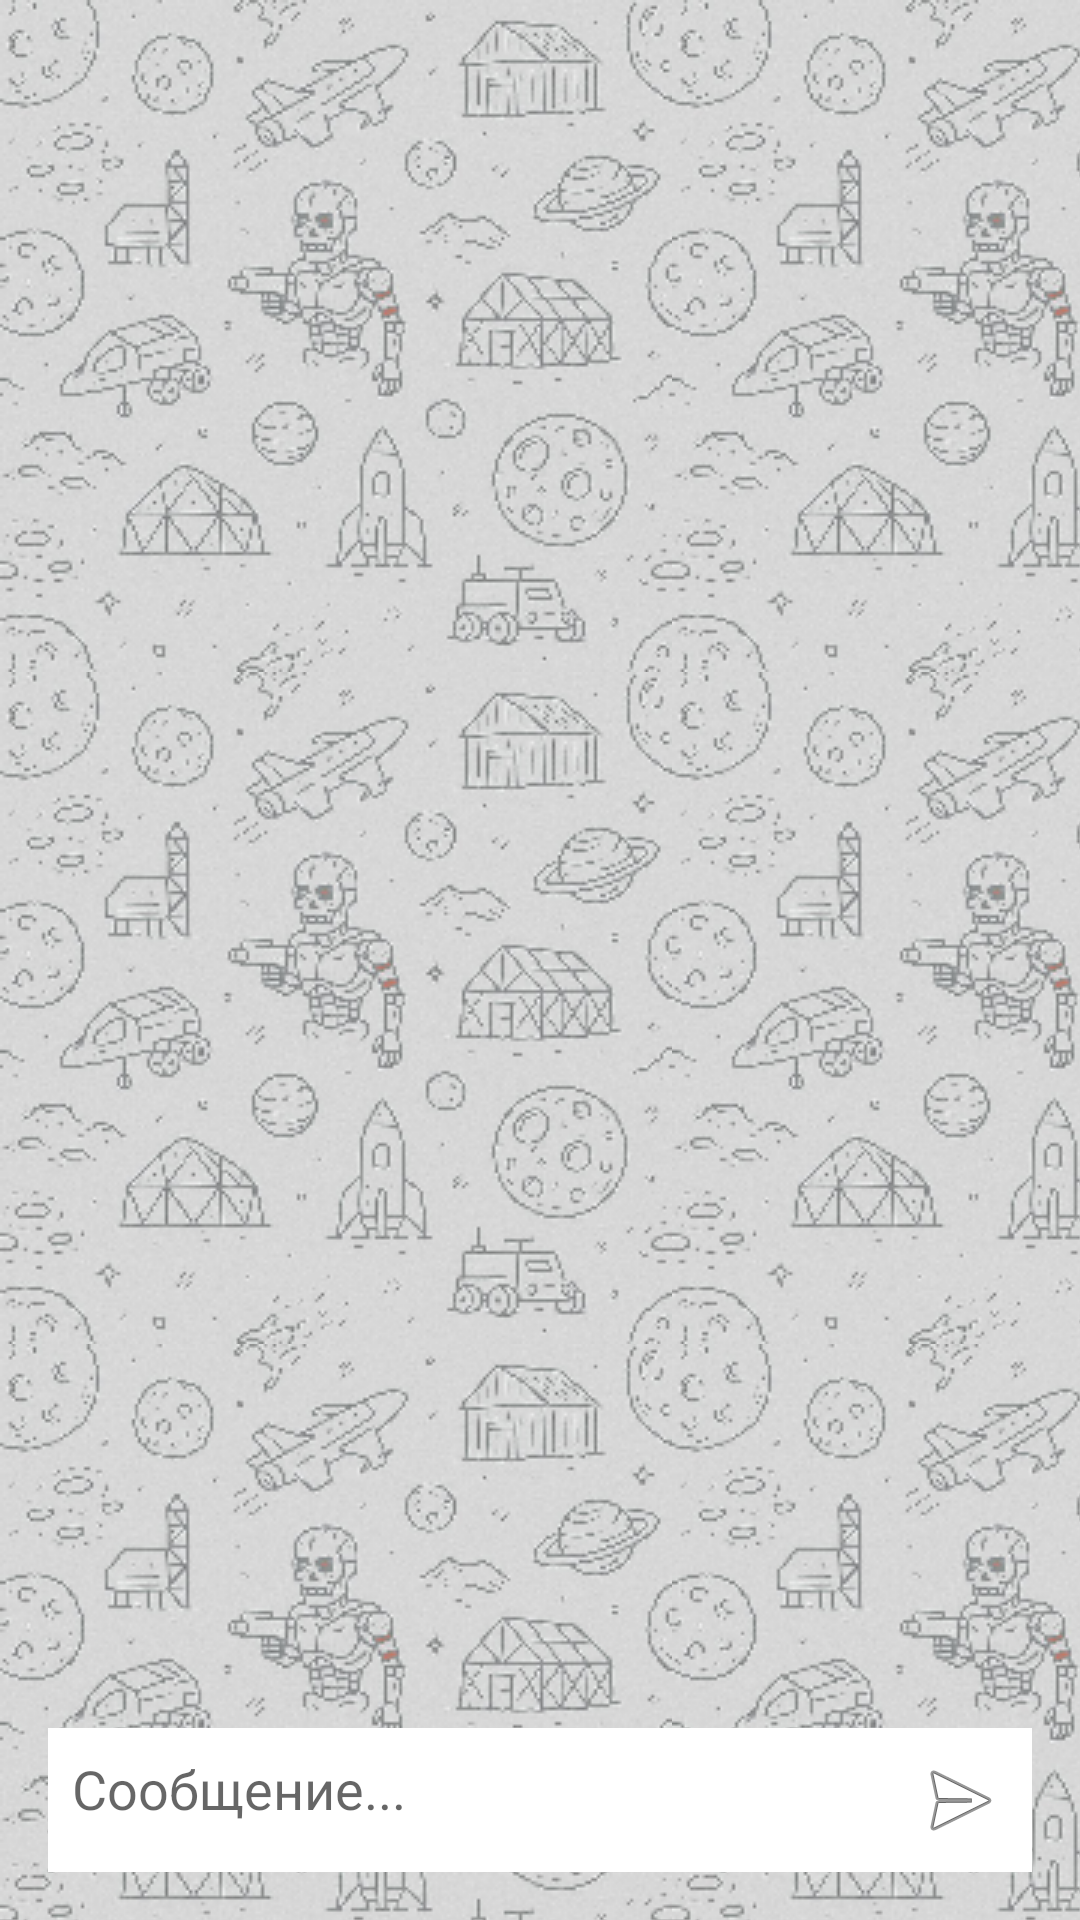

Named icons in this screenshot (1080px×1920px) and their centers, point (x, y):
send: point (961, 1800)
